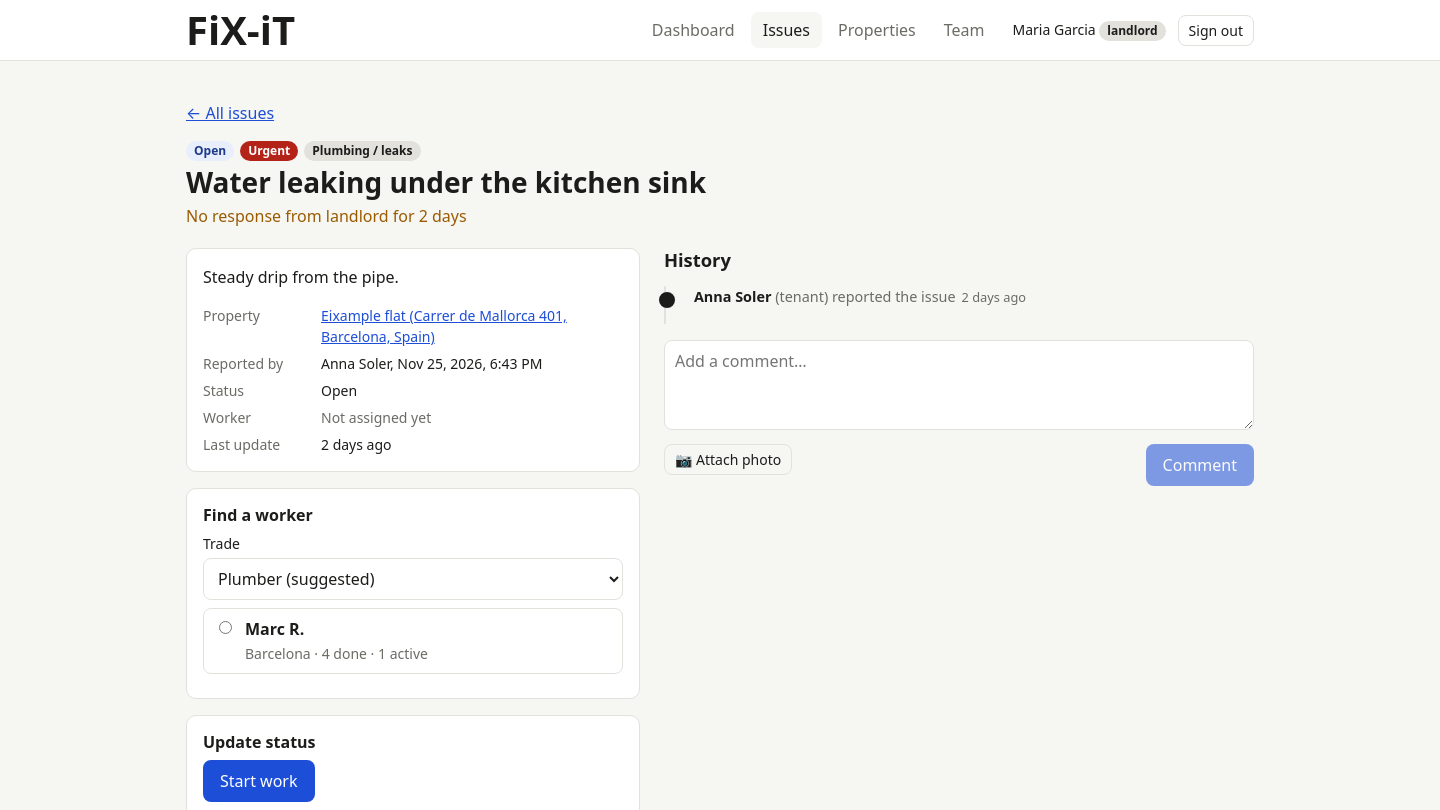
Scenario: workers › a landlord finds a worker by the suggested trade and sends a job offer
Expected: the dropdown shows "Plumber (suggested)", [203,558,623,600]
Click the radio button labelled "Marc R.Barcelona · 4 done · 1 active" at (226, 628), box [219,621,232,634]
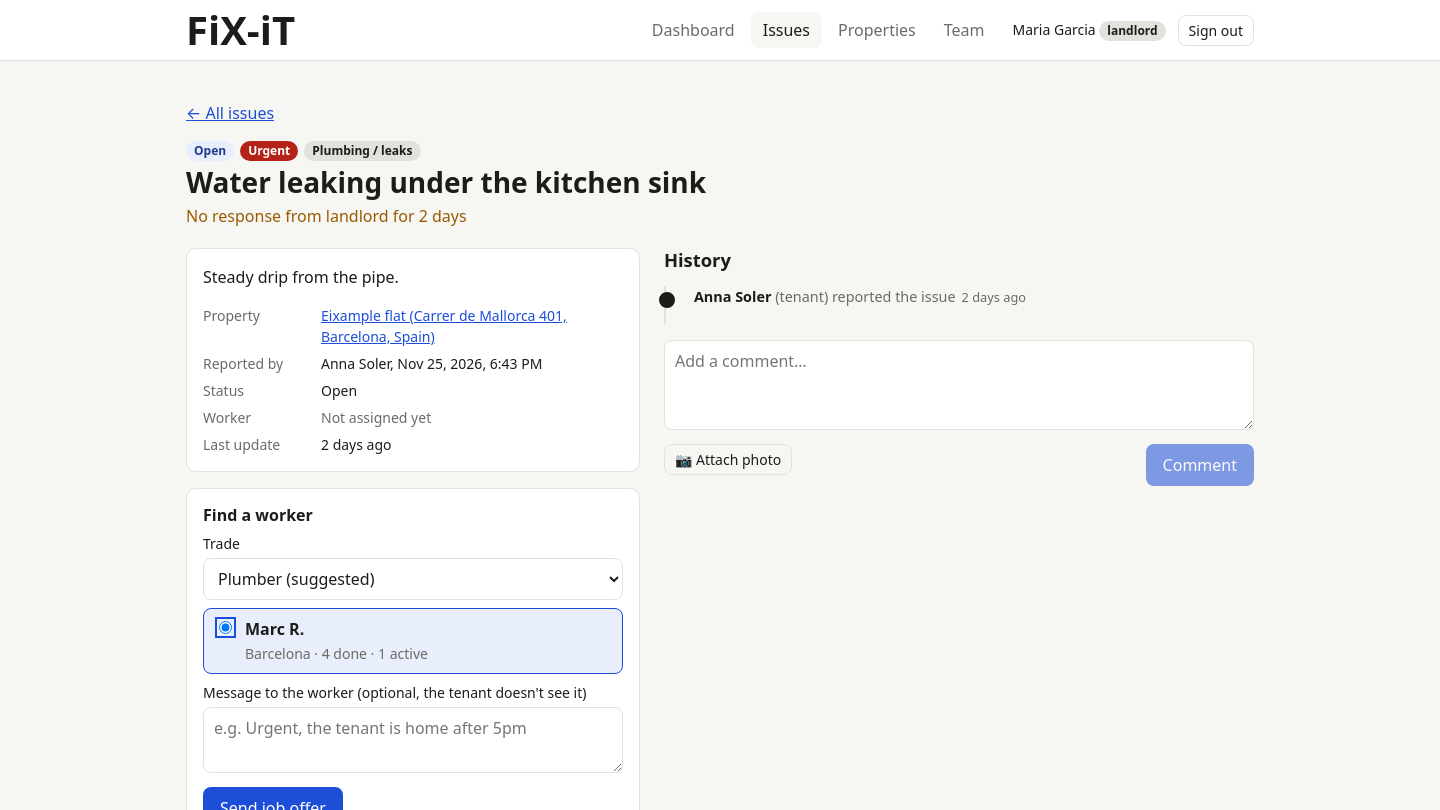
Type "Tenant home after 5" into the text box labelled "Message to the worker (optional, the tenant doesn't see it)" at (413, 740), box [203,707,623,773]
(page scrolled)
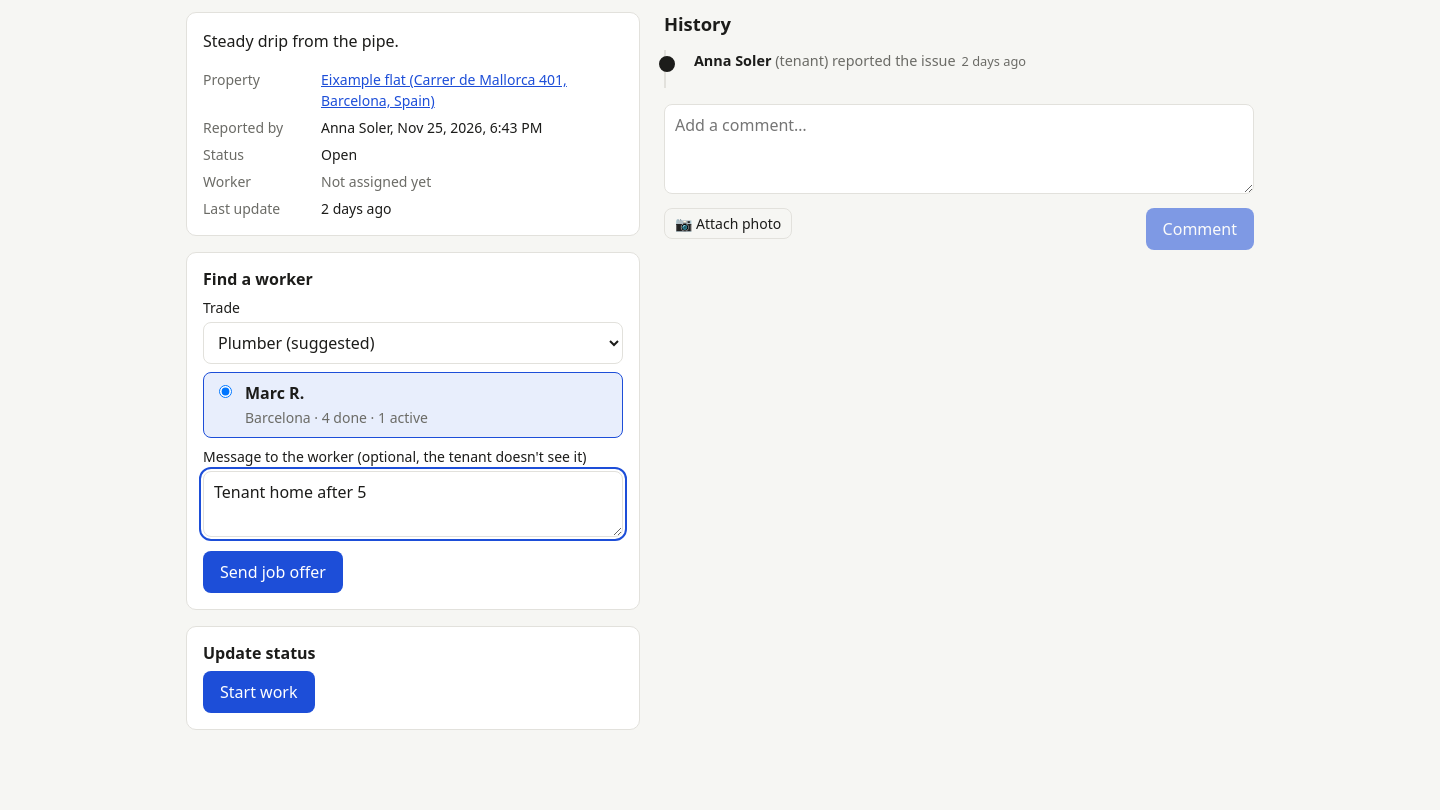
Click the button "Send job offer" at (273, 572), box [203,551,343,593]
(page scrolled)
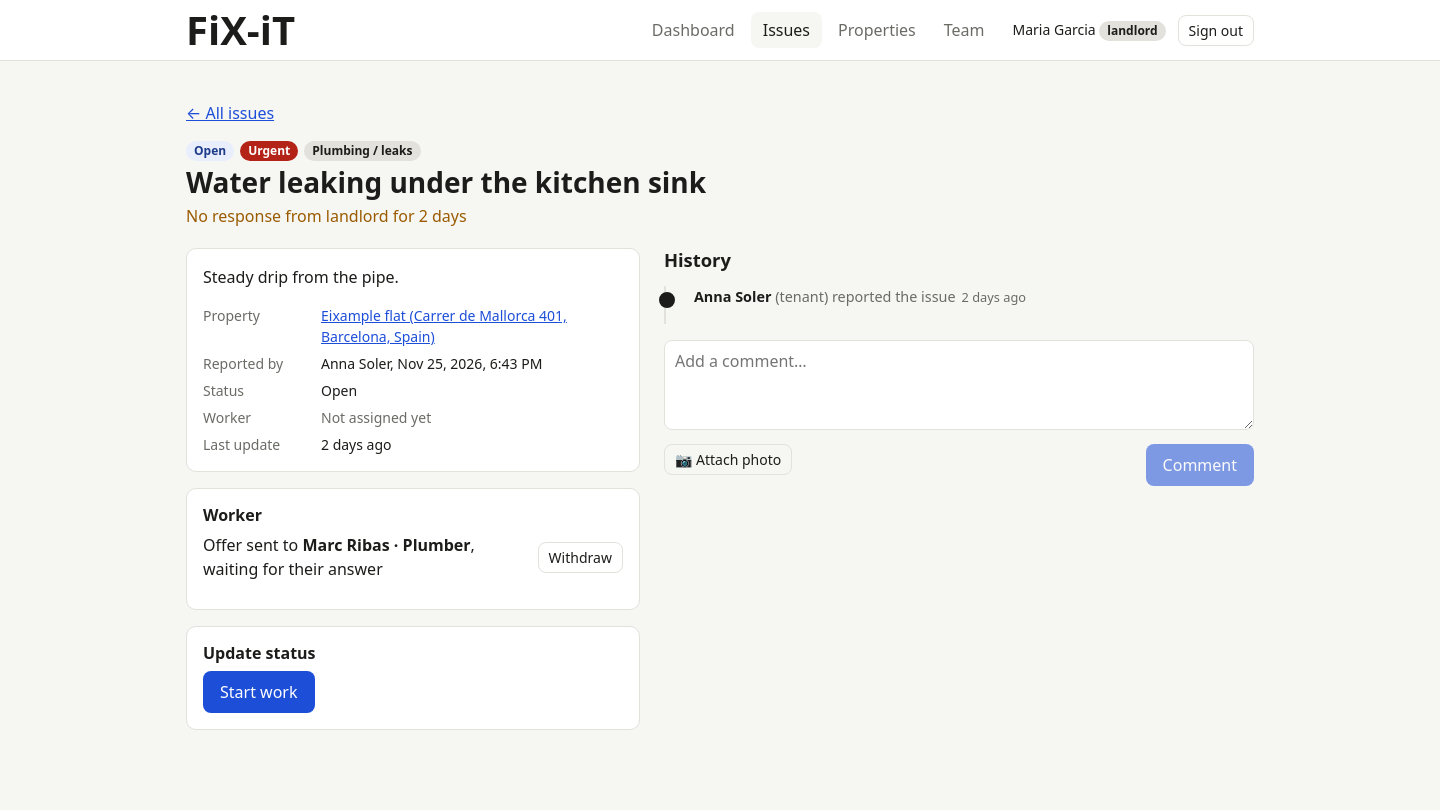
Result: the text "Offer sent to Marc Ribas · Plumber, waiting for their answer" is shown at [203,534,475,580]
Result: the button "Withdraw" is shown at [538,542,623,572]
